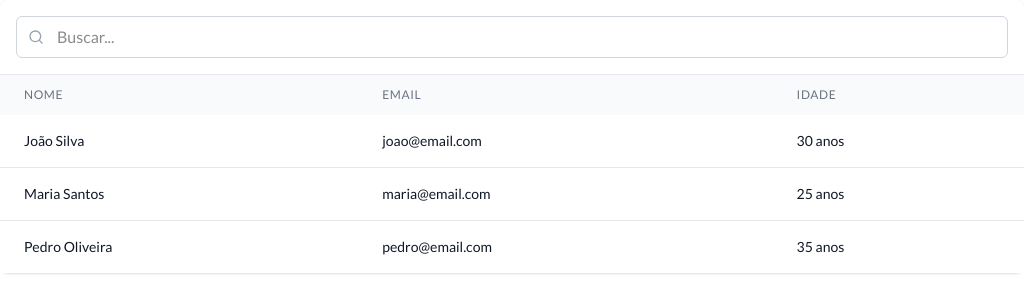
Test: DataTable Component › should filter data based on search
In the field with placeholder "Buscar...": {"x": 512, "y": 37} [16,16,1008,58], type "João"
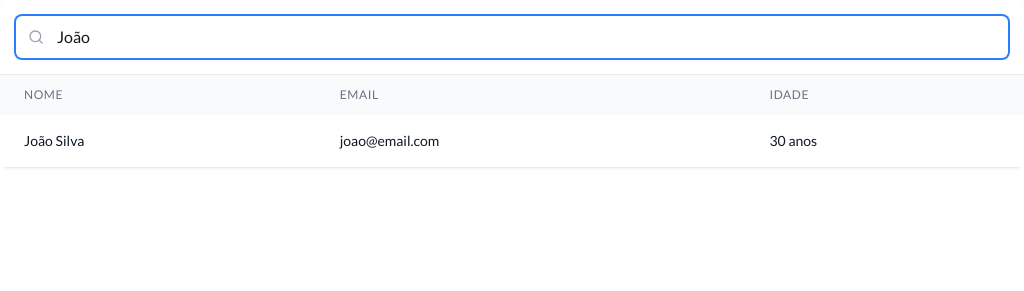
Expected: the text "João Silva" is shown, [0,115,316,167]
Now the text "Maria Santos" is gone
